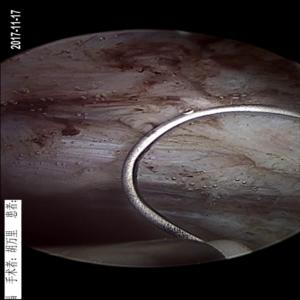film: (40, 46, 282, 205)
